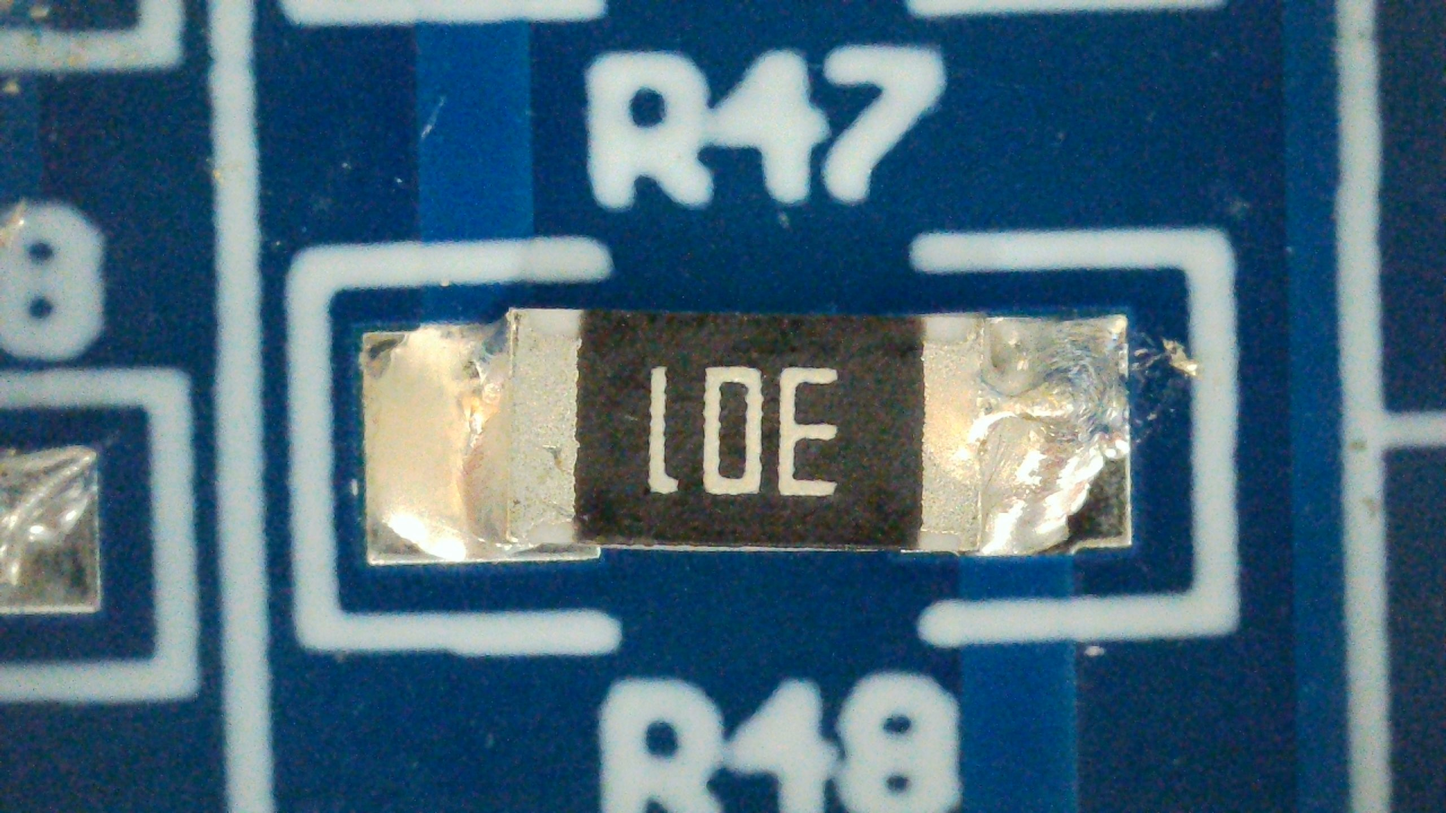OK: (362, 311, 1130, 565)
